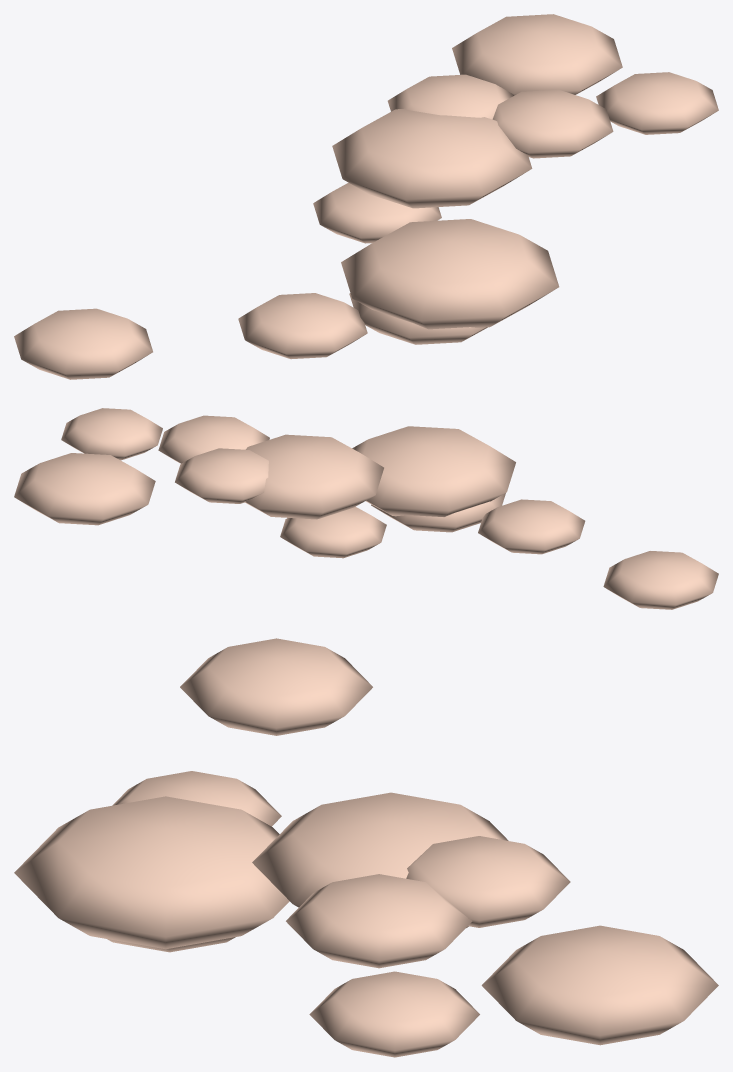
The model's file is welt_wolken.glb.
3 renders of one model, top to bottom at view 1: azimuth 30°, elevation 25°; view 2: azimuth 150°, elevation 25°; view 3: azimuth 270°, elevation 25°, orthographic. The views are drawn at different scales.
Parts seen in each view (by area): view 1: welt_wolken; view 2: welt_wolken; view 3: welt_wolken.
Boxes of the visible parts, x1,y1,x2,y2 form: welt_wolken: [14, 14, 718, 379]; welt_wolken: [14, 408, 718, 609]; welt_wolken: [14, 638, 718, 1057].
Size of the model in its own units: 32.77 by 5.16 by 20.27.
